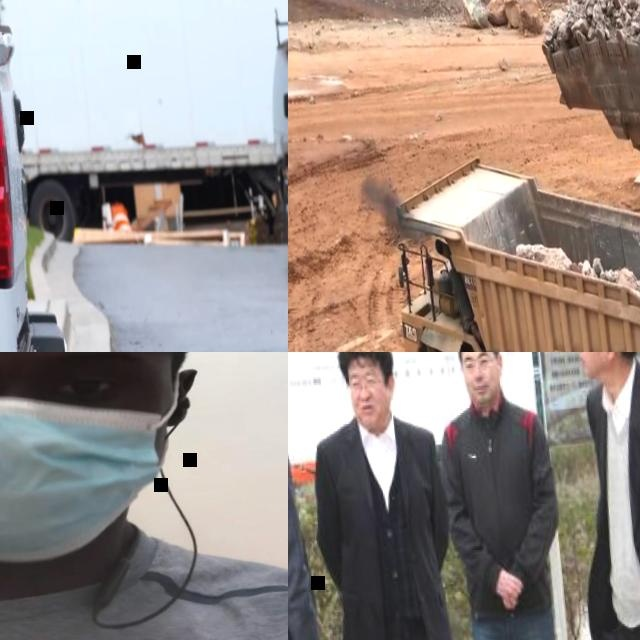Mask: (0, 382, 189, 576)
NO-Hardhat: (337, 352, 391, 367)
NO-Mask: (353, 394, 390, 429), (465, 373, 502, 408), (579, 352, 610, 377)
NO-Safety Vest: (0, 509, 288, 640), (325, 420, 451, 640), (450, 404, 550, 609), (585, 370, 640, 632)
Person: (0, 352, 288, 640), (296, 352, 482, 640), (426, 352, 593, 640), (572, 352, 640, 640)
Safety Cone: (108, 202, 130, 235)
machinery: (378, 122, 640, 352), (531, 0, 640, 352)
vehicle: (0, 0, 145, 352), (259, 4, 288, 282)
